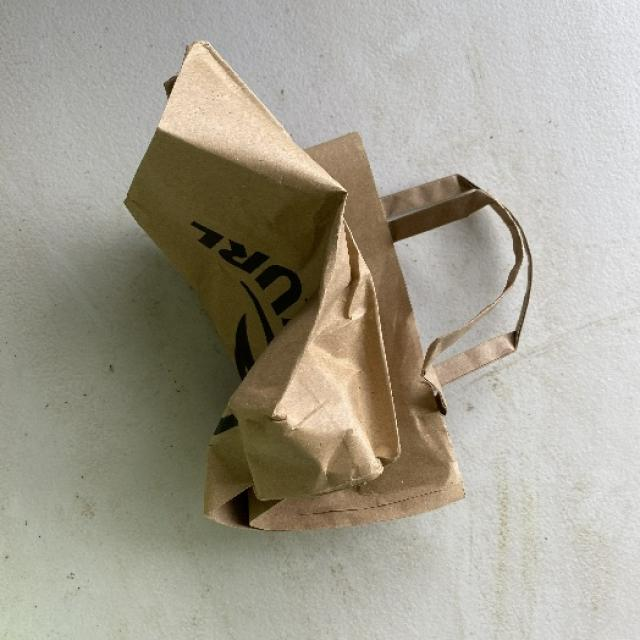paper: (122, 39, 467, 531)
